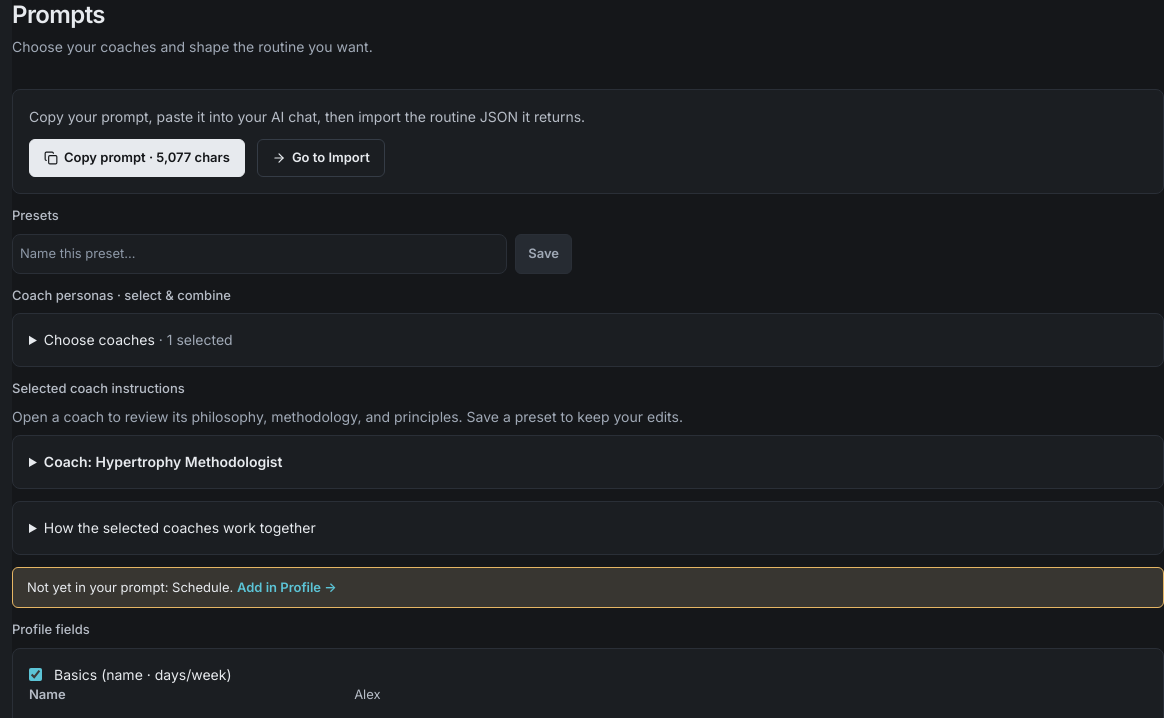
it: PromptBuilderClient field toggles › removes a field's text when its toggle is switched off
Click the text "Choose coaches". click: (99, 340)
box: [44,331,155,348]
(page scrolled)
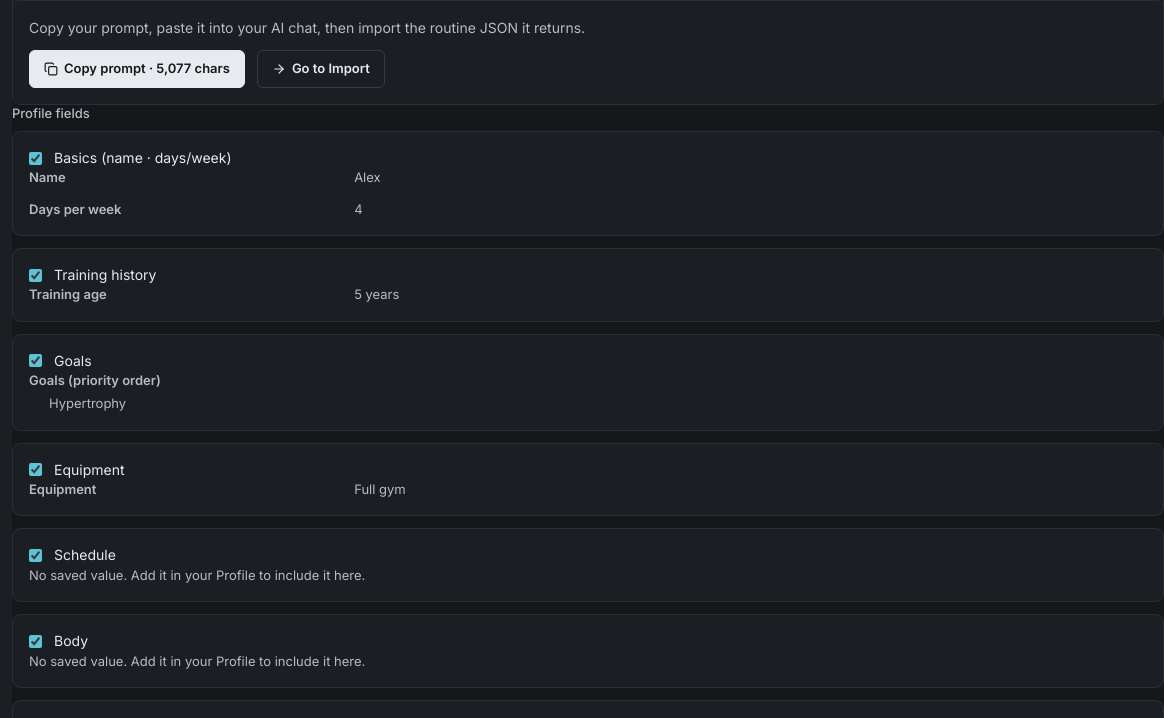
Click the checkbox labelled "Goals". click: (36, 360)
box: [29,354,42,367]
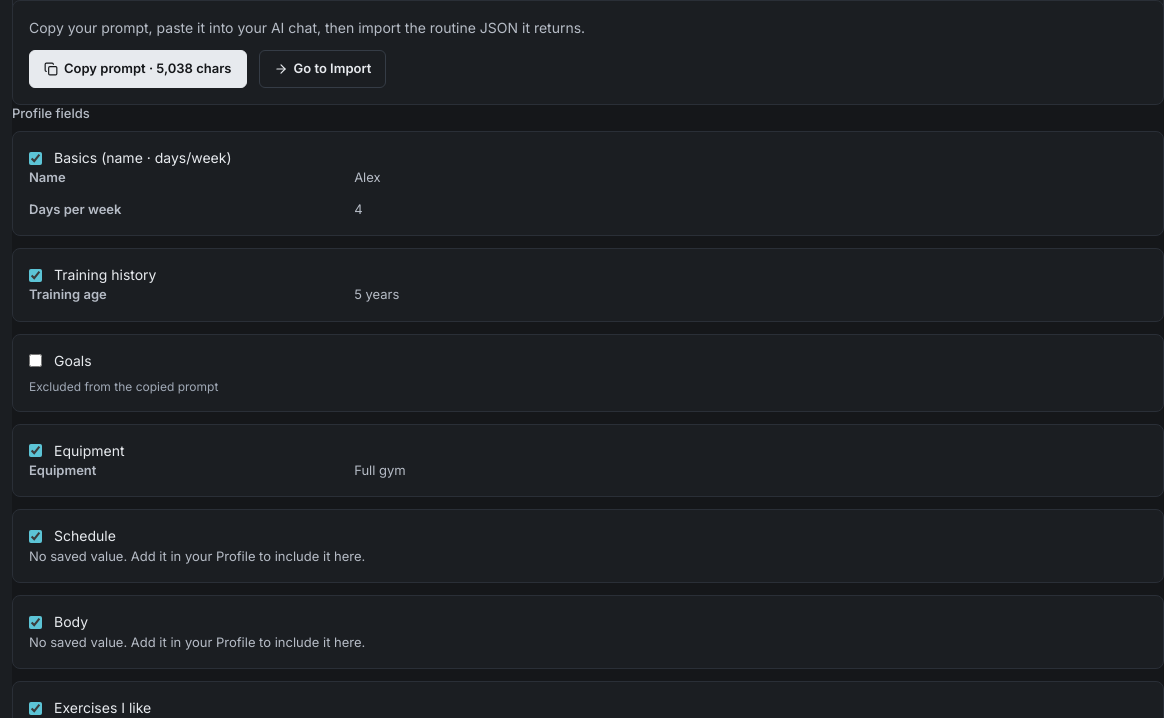
Expected: the heading "Goals (priority order)" is gone
